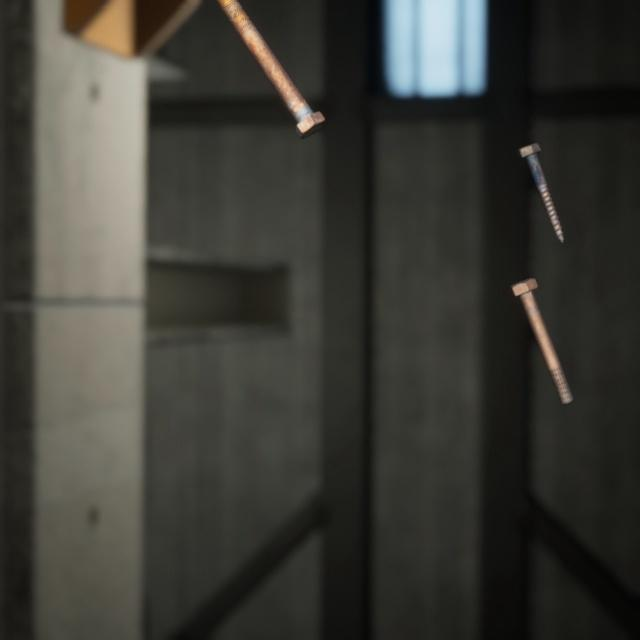bolt: (218, 0, 329, 131), (504, 255, 578, 391), (512, 123, 568, 232)
